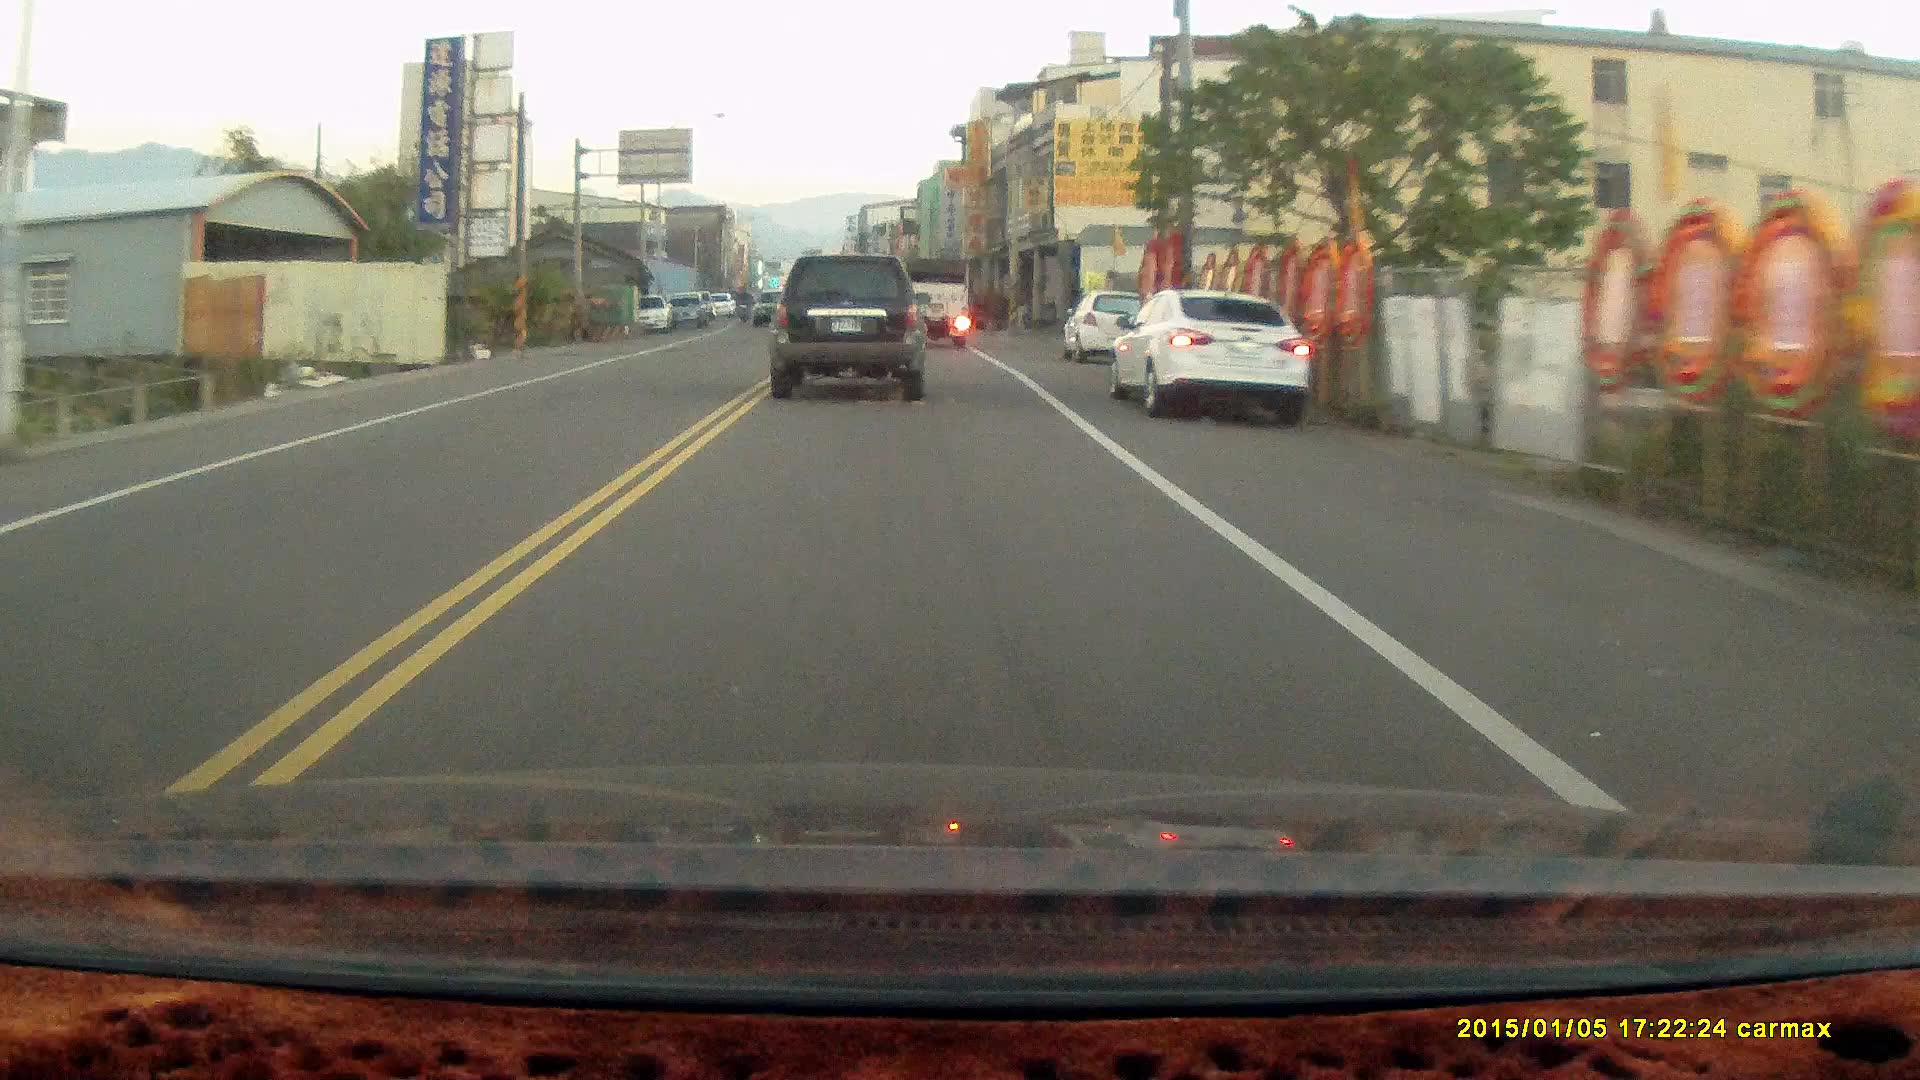vehicle: (1109, 290, 1315, 425), (770, 257, 930, 406), (897, 261, 975, 355), (1064, 293, 1160, 367)
